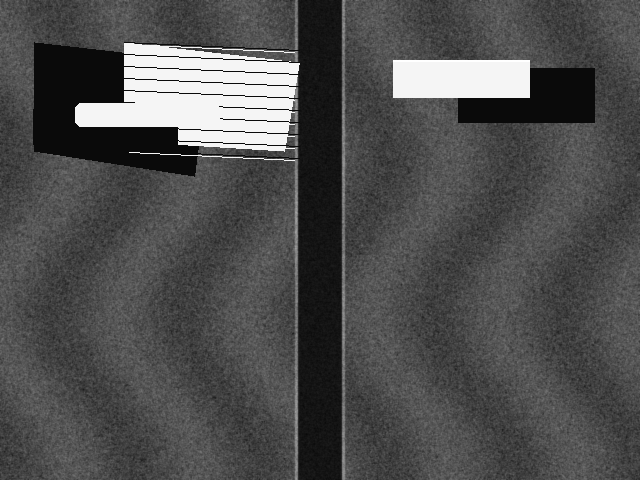Fishing Gear: (124, 42, 299, 151)
Metal Debris: (393, 60, 529, 97)
Wood Debris: (75, 103, 219, 126)
